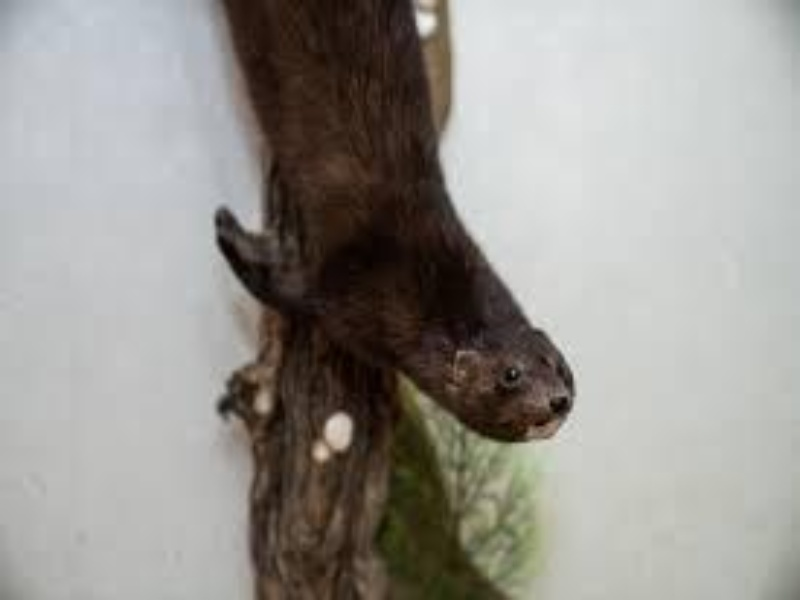minkish: (189, 4, 579, 455)
